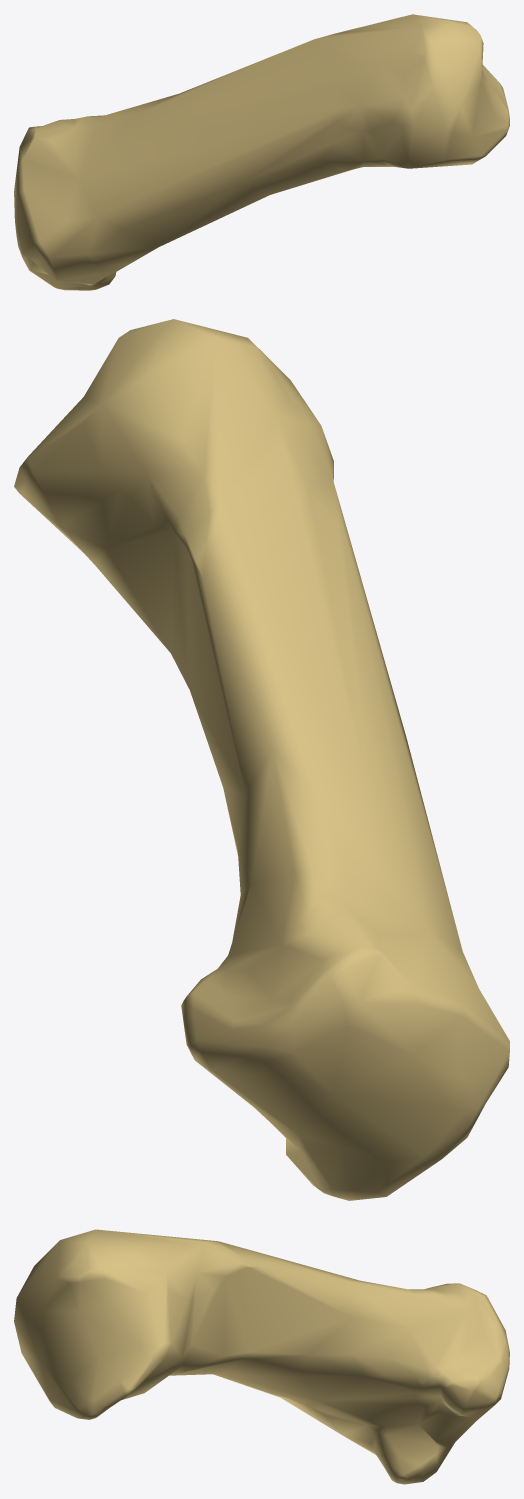
The picture shows the model from 3 angles, top to bottom: view 1: azimuth 30°, elevation 25°; view 2: azimuth 150°, elevation 25°; view 3: azimuth 270°, elevation 25°; orthographic projection. The views are drawn at different scales.
Visible parts, largest first — view 1: 右侧第一掌骨; view 2: 右侧第一掌骨; view 3: 右侧第一掌骨.
Boxes of the visible parts, left/top/right/bottom form: 右侧第一掌骨: left=14, top=14, right=509, bottom=290; 右侧第一掌骨: left=14, top=319, right=509, bottom=1200; 右侧第一掌骨: left=14, top=1229, right=509, bottom=1484.
Bounding box in the file's own units: 0.057 × 0.0464 × 0.0565.
